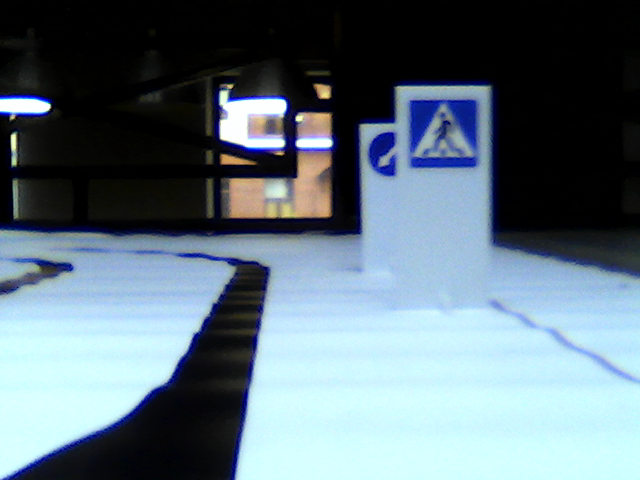pesh: (410, 98, 478, 168)
